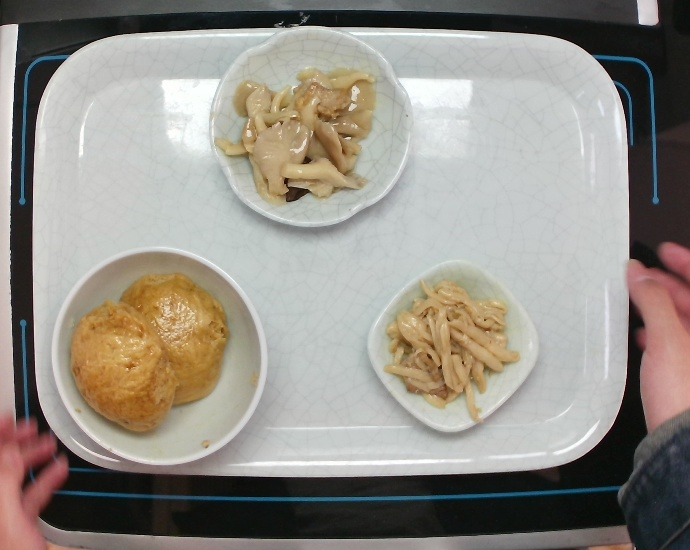JYsf-Ao_Yuan_Wan: (206, 22, 416, 230)
JYsf-Fan_Wan: (48, 244, 271, 469)
JYsf-Si_Fang_Die: (363, 255, 541, 436)
